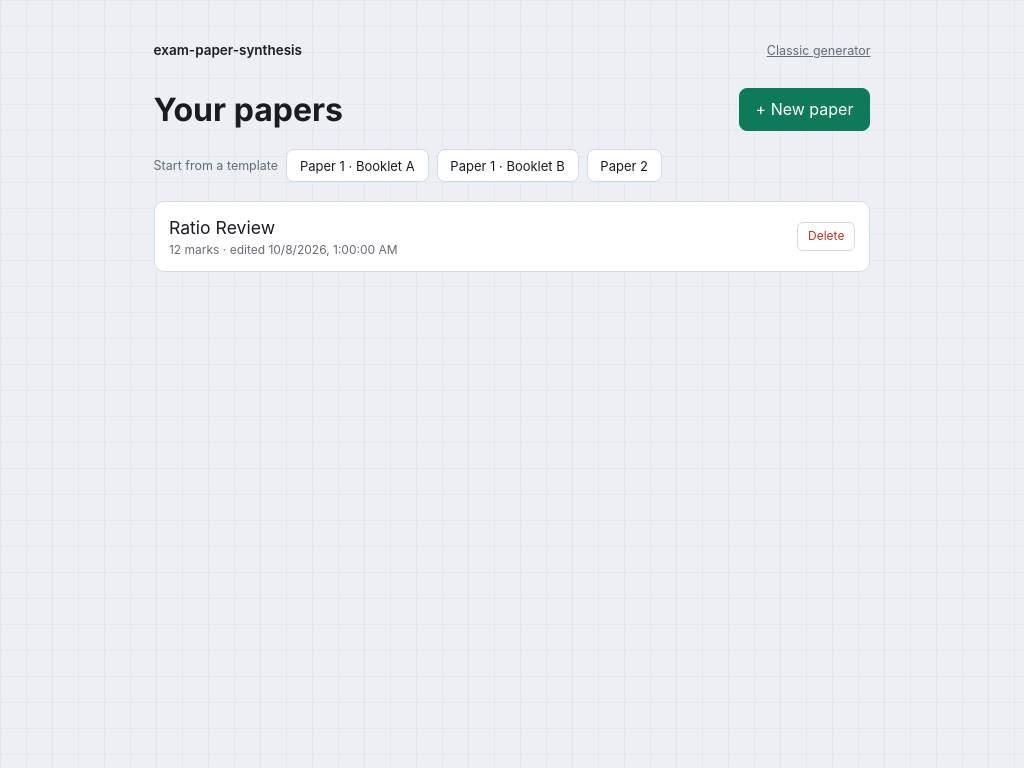
it: DocumentList › deletes only after a second confirming click
Click the button "Delete": (826, 236) [798,222,855,251]
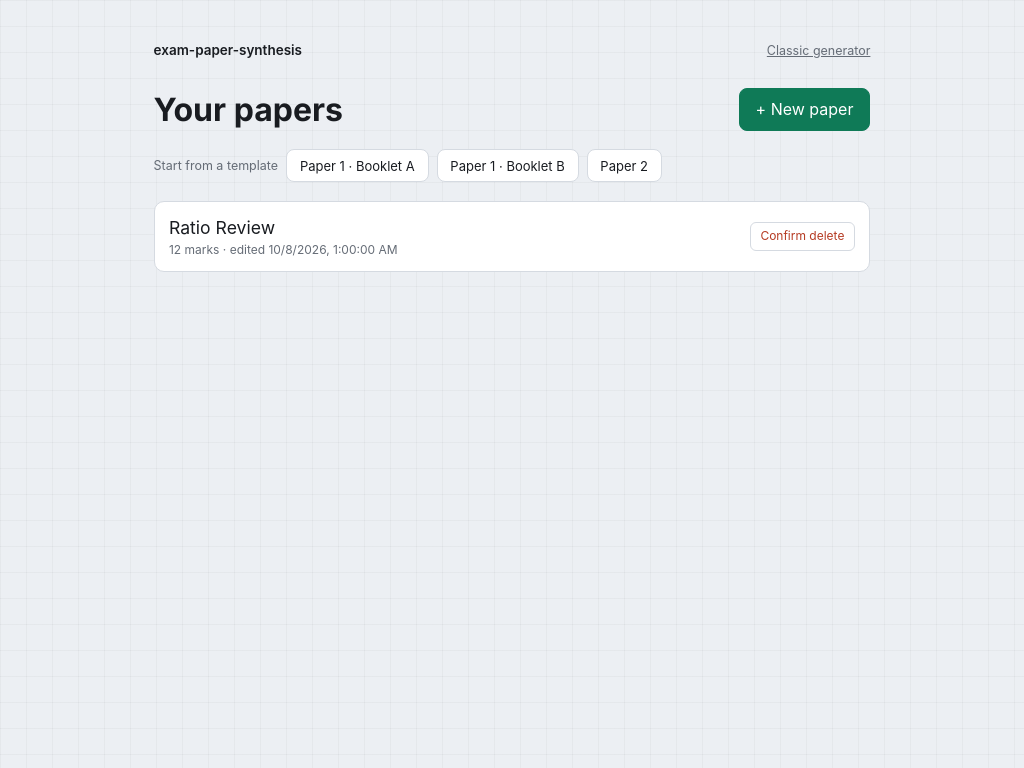
Click the button "Confirm delete": (802, 236) [750,222,855,251]
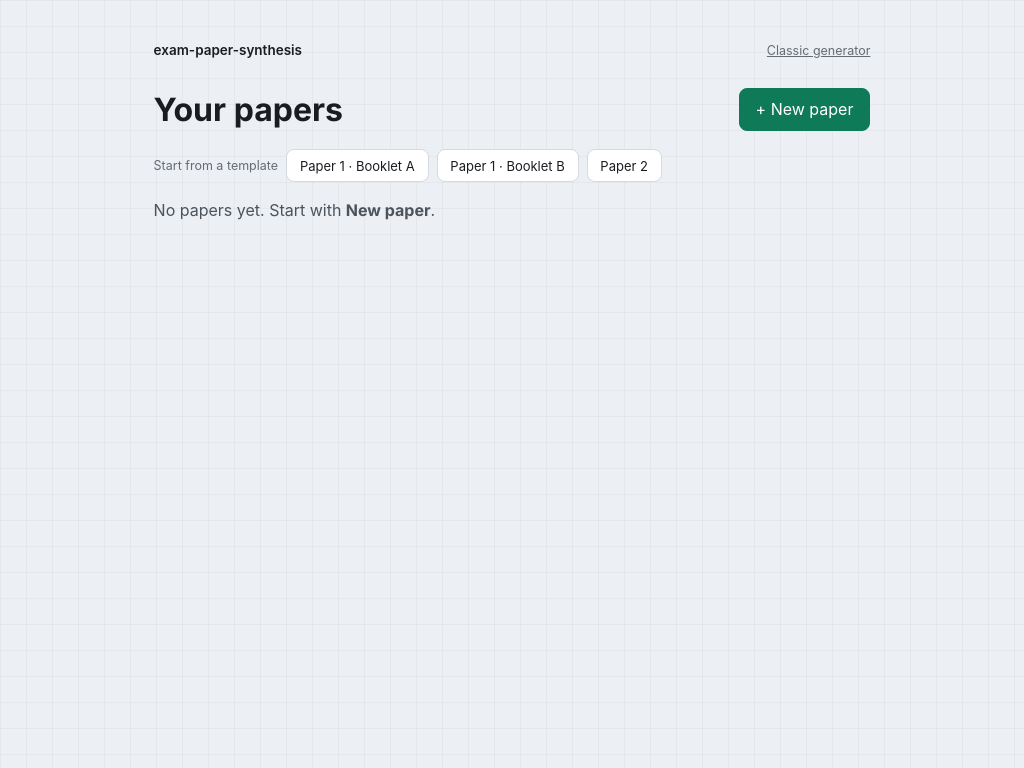
Now the link "Ratio Review" is gone
